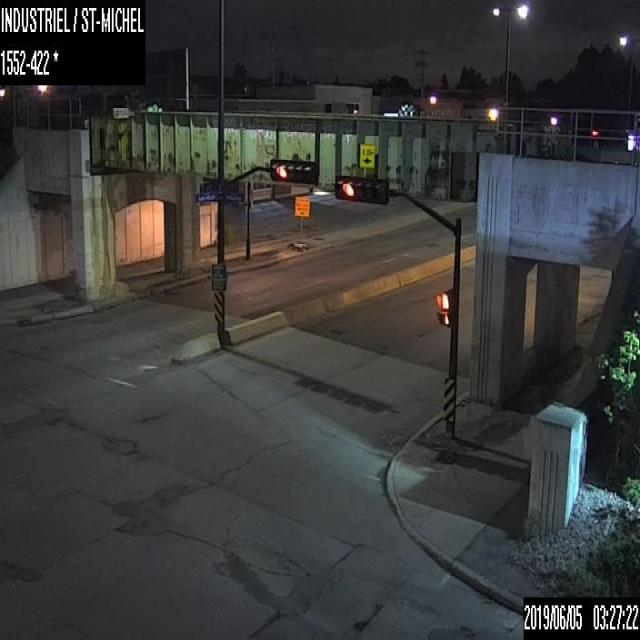construction: (290, 194, 310, 250)
